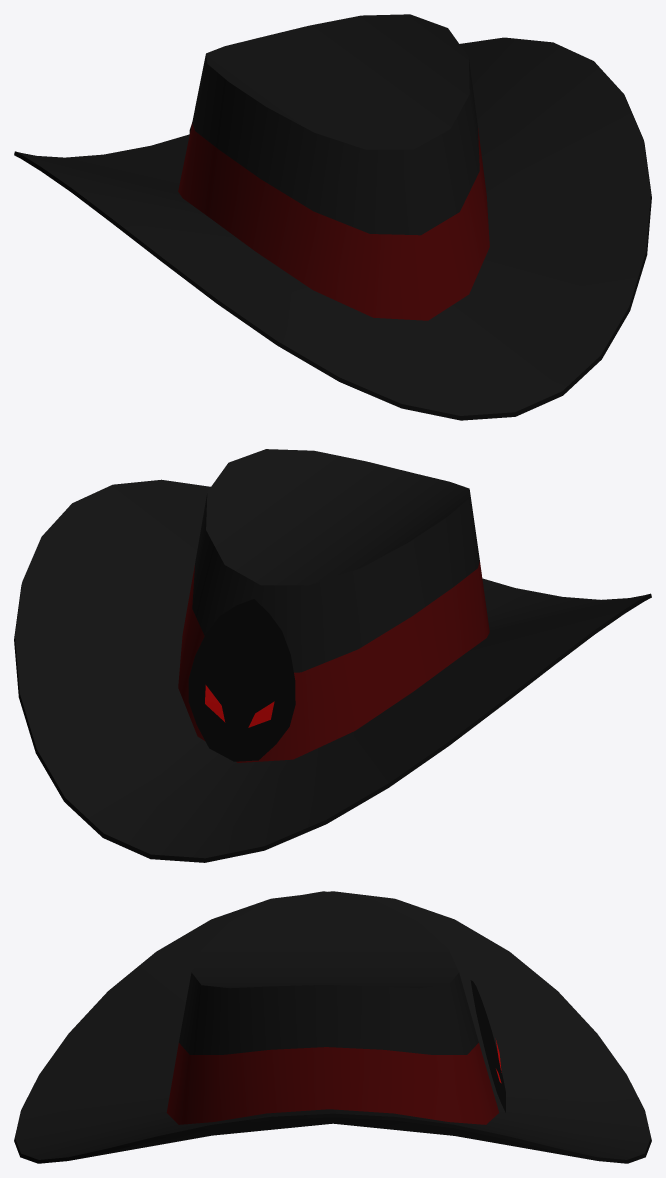
Rendered from hat_evilpablo.glb.
3 views of the same model, one above another, from view 1: azimuth 30°, elevation 25°; view 2: azimuth 150°, elevation 25°; view 3: azimuth 270°, elevation 25° (orthographic). The views are drawn at different scales.
Visible parts, largest first — view 1: hat_evilpablo; view 2: hat_evilpablo; view 3: hat_evilpablo.
Part boxes in pixels (box(x1,y1,x2,y2)): hat_evilpablo: box(14, 14, 651, 420); hat_evilpablo: box(14, 449, 651, 862); hat_evilpablo: box(14, 891, 651, 1163).
Bounding box in the file's own units: 0.4075 × 0.1727 × 0.4924.
